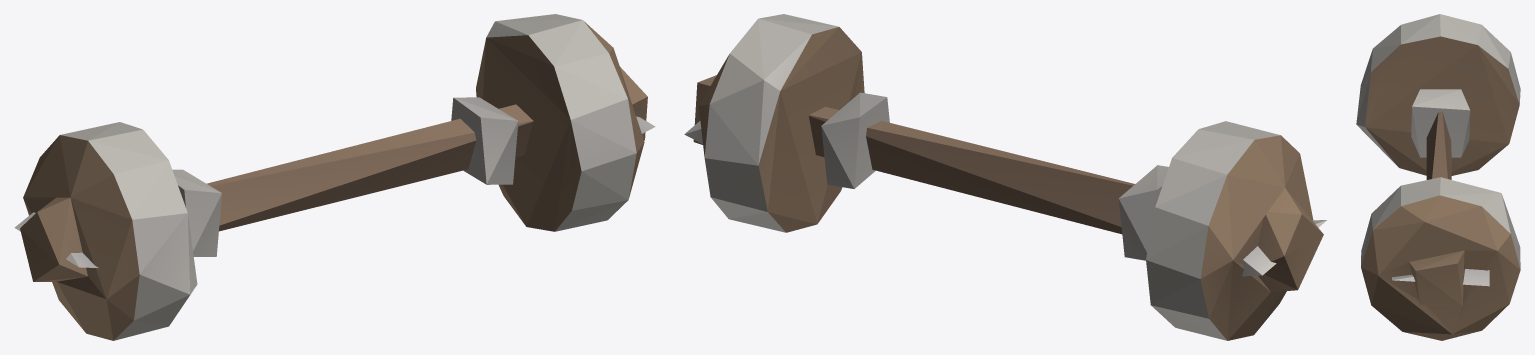
Rendered from life_cart_axle.glb.
3 views of the same model, side by side, from view 1: azimuth 30°, elevation 25°; view 2: azimuth 150°, elevation 25°; view 3: azimuth 270°, elevation 25° (orthographic). The views are drawn at different scales.
Parts seen in each view (by area): view 1: life_cart_axle; view 2: life_cart_axle; view 3: life_cart_axle.
Boxes of the visible parts, x1,y1,x2,y2 form: life_cart_axle: (14,14,655,340); life_cart_axle: (684,14,1327,340); life_cart_axle: (1356,14,1520,340).
Size of the model in its own units: 0.5703 by 0.1781 by 0.1823.
